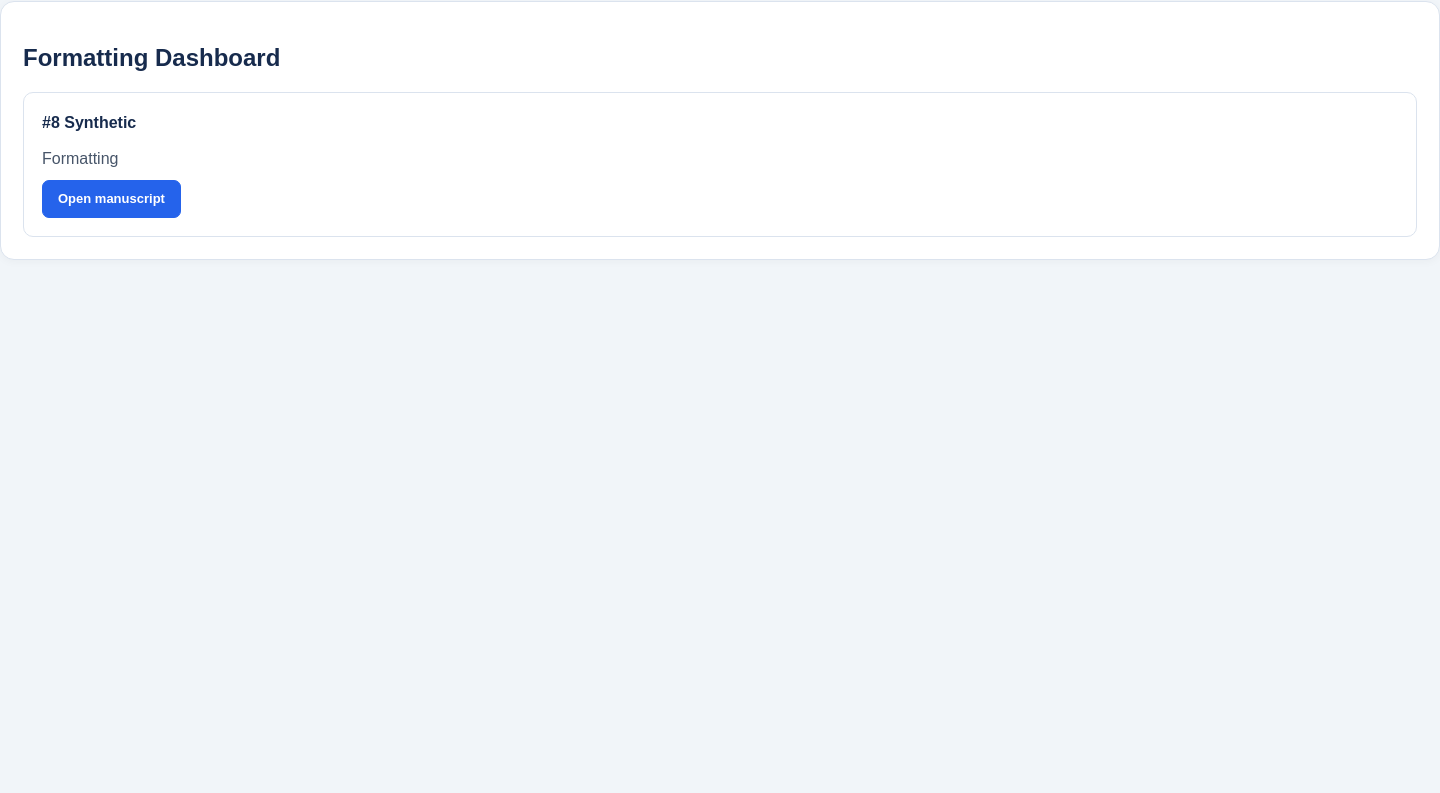
shows the authorized timeline for the selected accepted formatter assignment
The width and height of the screenshot is (1440, 793).
Click the button "Open manuscript": (111, 199) x1=42 y1=180 x2=181 y2=218
(page scrolled)
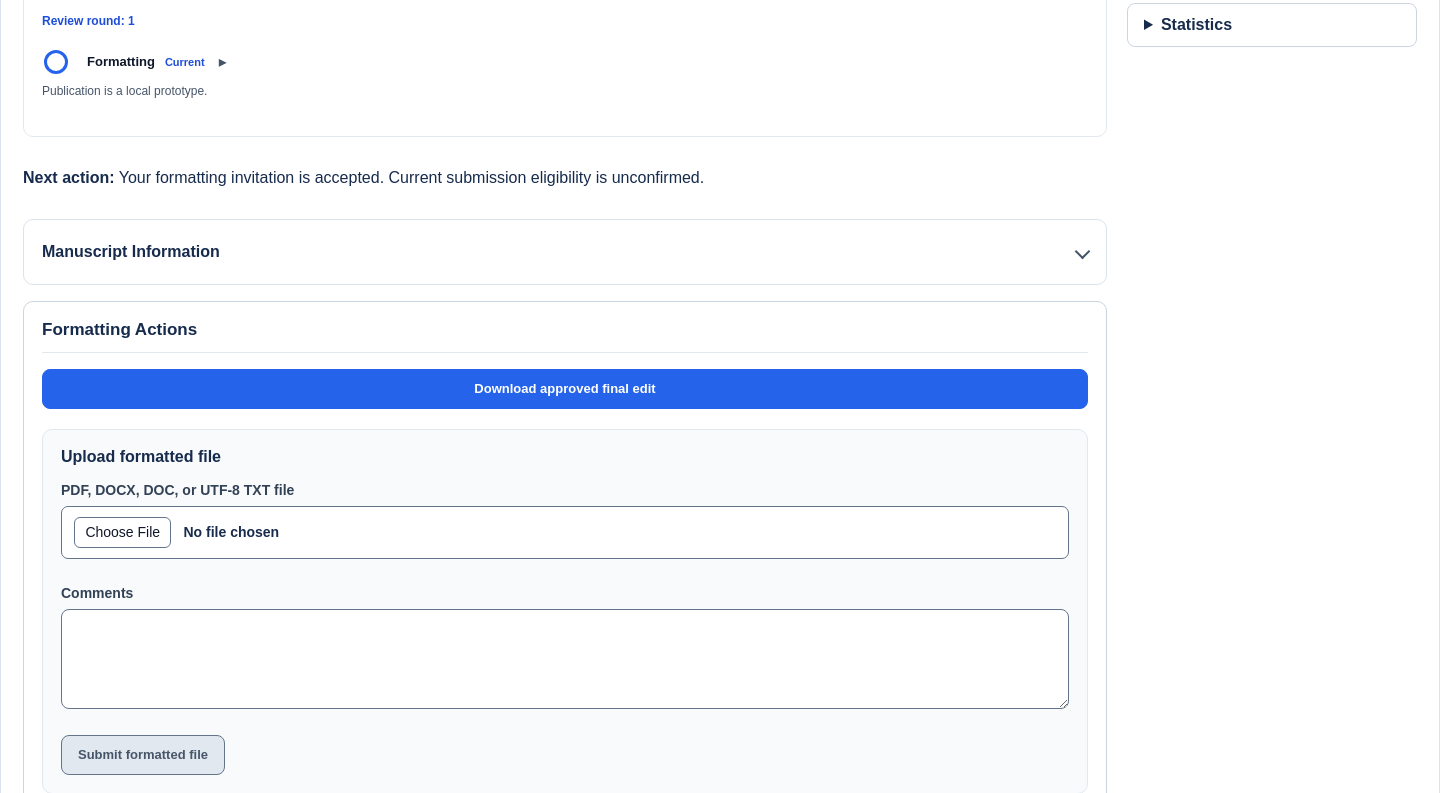
expect the list named "Workflow timeline" is shown: met, box x1=87 y1=54 x2=205 y2=69
expect the button "Download approved final edit" is shown: met, box x1=42 y1=369 x2=1088 y2=409
